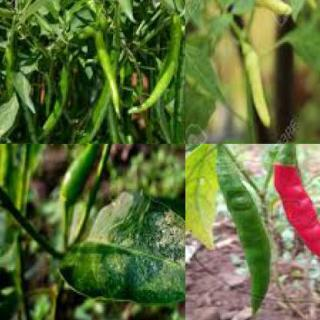green_chilli: (200, 144, 275, 318), (127, 10, 183, 114), (55, 143, 104, 204), (93, 32, 123, 122), (238, 46, 270, 128), (40, 65, 72, 133), (170, 39, 184, 136), (222, 0, 293, 18), (100, 107, 128, 143), (0, 43, 17, 102)
